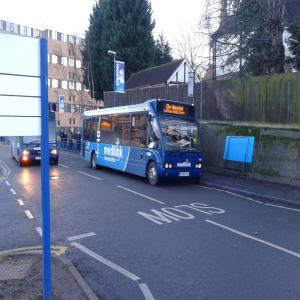Vehicle-registration-plate: (180, 172, 190, 177)
